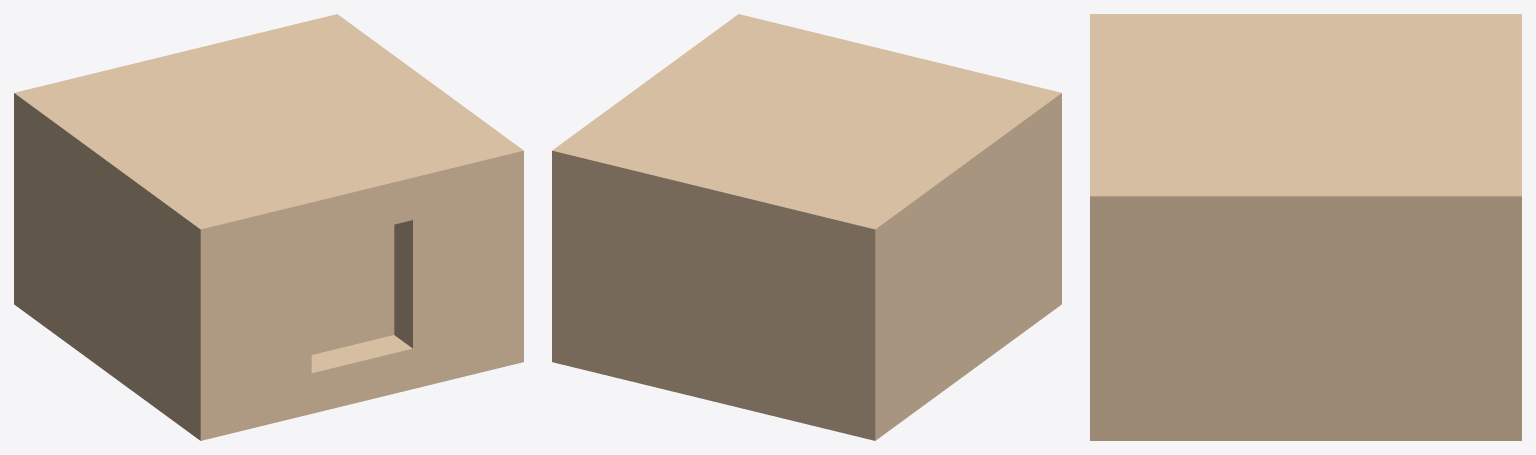
File: building-window.obj
3 views of the same model, side by side, from view 1: azimuth 30°, elevation 25°; view 2: azimuth 150°, elevation 25°; view 3: azimuth 270°, elevation 25° (orthographic). The views are drawn at different scales.
Size of the model in its own units: 1 by 0.625 by 1.
